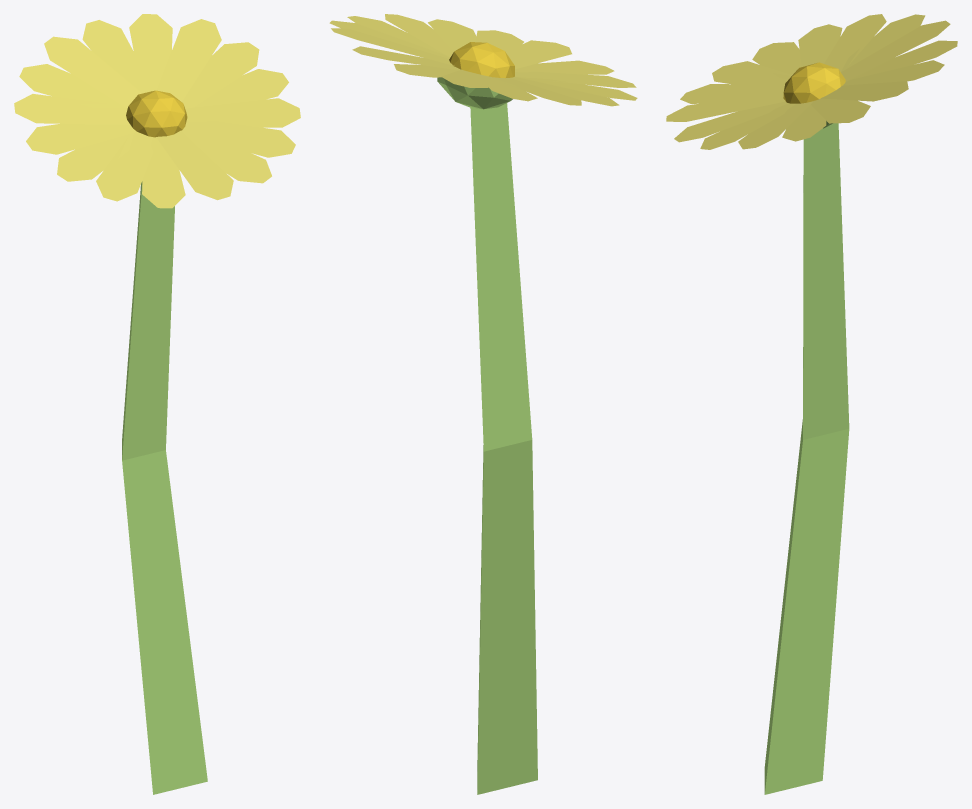
The model's file is flower 2.fbx.
3 views of the same model, side by side, from view 1: azimuth 30°, elevation 25°; view 2: azimuth 150°, elevation 25°; view 3: azimuth 270°, elevation 25° (orthographic). The views are drawn at different scales.
Visible parts, largest first — view 1: Cylinder.002; view 2: Cylinder.002; view 3: Cylinder.002.
Boxes of the visible parts, bbox=[...] form: Cylinder.002: bbox=[14, 14, 300, 794]; Cylinder.002: bbox=[329, 14, 637, 794]; Cylinder.002: bbox=[666, 14, 957, 794].
Size of the model in its own units: 7.1 by 19.11 by 6.82.
